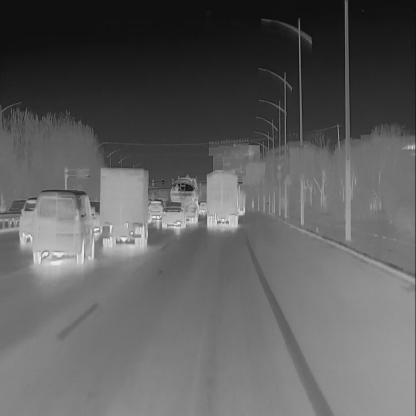car: (31, 188, 95, 266), (18, 197, 37, 244), (162, 199, 186, 229), (6, 196, 28, 218), (148, 199, 164, 222), (198, 200, 207, 214)
truck: (96, 166, 150, 251), (206, 169, 244, 231), (168, 173, 200, 226)
